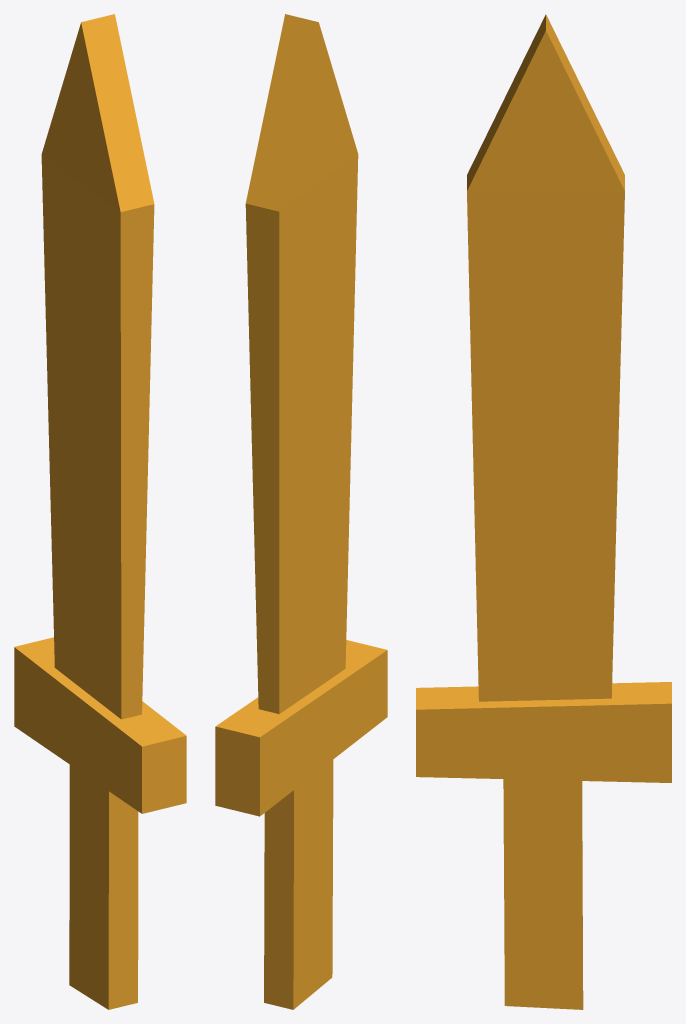
File: Sword.glb
3 renders of one model, left to right at view 1: azimuth 30°, elevation 25°; view 2: azimuth 150°, elevation 25°; view 3: azimuth 270°, elevation 25°, orthographic.
Visible parts, largest first — view 1: Bark Bane; view 2: Bark Bane; view 3: Bark Bane.
Part boxes in pixels (x1=…): Bark Bane: x1=14, y1=14, x2=186, y2=1009; Bark Bane: x1=215, y1=14, x2=387, y2=1009; Bark Bane: x1=416, y1=14, x2=671, y2=1009.
Bounding box in the file's own units: 0.0585 × 1.23 × 0.2905.
